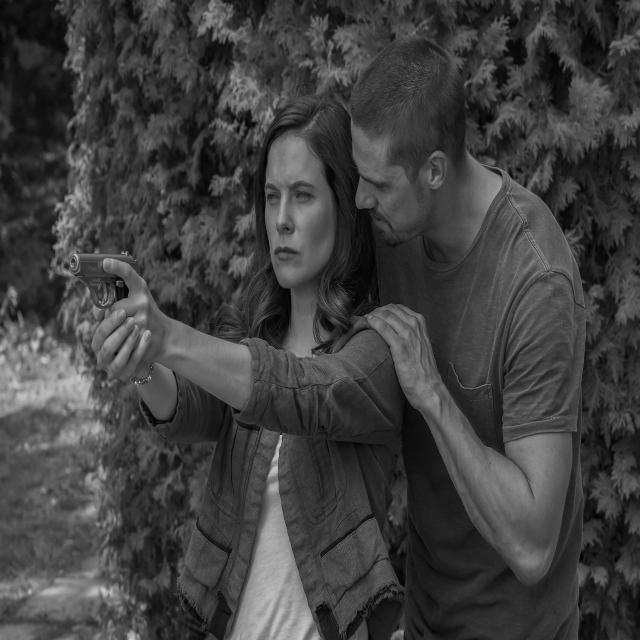gun: (66, 249, 145, 361)
